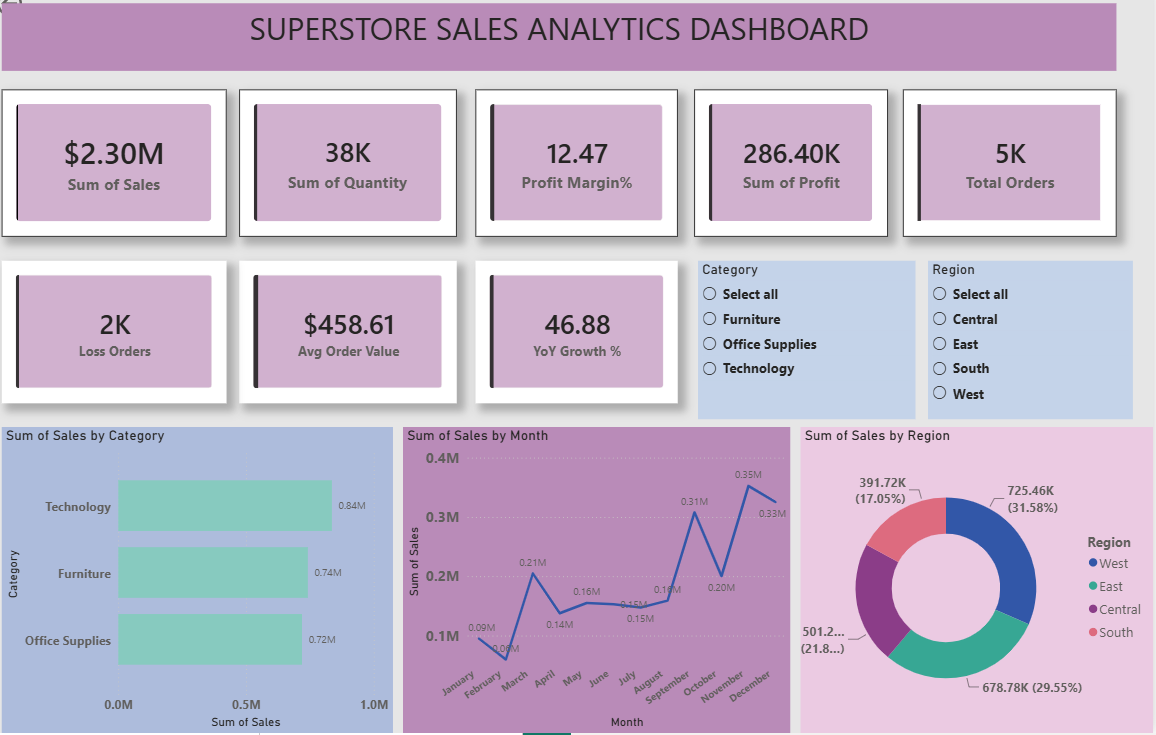

What the dashboard file says about the page in this screenshot:
{"tool":"powerbi","page":{"name":"Superstore Sales Analytics Dashboard","canvas":[1400,900],"ordinal":0},"visuals":[{"type":"cardVisual","fields":{"Data":["Sum(Sample - Superstore.Sales)"]},"box":[10.6,123.7,271.4,177.9],"z":0},{"type":"cardVisual","fields":{"Data":["Sum(Sample - Superstore.Profit)"]},"box":[846,123.7,233.7,177.9],"z":1000},{"type":"cardVisual","fields":{"Data":["Sum(Sample - Superstore.Quantity)"]},"box":[297.1,123.7,262.4,177.9],"z":2000},{"type":"cardVisual","fields":{"Data":["Sample - Superstore.Total Orders"]},"box":[1097.9,123.7,257.9,177.9],"z":3000},{"type":"clusteredBarChart","fields":{"Category":["Sample - Superstore.Category"],"Y":["Sum(Sample - Superstore.Sales)"]},"box":[10.6,530.8,472,369.5],"z":4000},{"type":"lineChart","fields":{"Category":["Sample - Superstore.Order Date.Variation.Date Hierarchy.Month"],"Y":["Sum(Sample - Superstore.Sales)"]},"box":[494.6,530.8,467.5,369.5],"z":5000},{"type":"donutChart","fields":{"Y":["Sum(Sample - Superstore.Sales)"],"Category":["Sample - Superstore.Region"]},"box":[974.2,530.8,425.3,369.5],"z":6000},{"type":"listSlicer","fields":{"Values":["Sample - Superstore.Category"]},"box":[850.5,330.3,262.4,191.5],"z":7000},{"type":"listSlicer","fields":{"Values":["Sample - Superstore.Region"]},"box":[1128,330.3,247.3,191.5],"z":8000},{"type":"cardVisual","fields":{"Data":["Sample - Superstore.Progit Margin%"]},"box":[582.1,123.7,244.3,177.9],"z":9000},{"type":"cardVisual","fields":{"Data":["Sample - Superstore.Avg Order Value"]},"box":[297.1,330.3,262.4,171.9],"z":10000},{"type":"actionButton","box":[0,0,100,40],"z":11000},{"type":"cardVisual","fields":{"Data":["Sample - Superstore.Loss Orders"]},"box":[10.6,330.3,271.4,171.9],"z":12000},{"type":"cardVisual","fields":{"Data":["Sample - Superstore.YoY Growth %"]},"box":[582.1,330.3,244.3,171.9],"z":13000},{"type":"textbox","box":[10.6,19.6,1345.2,81.4],"z":14000}]}

Visuals, with their boxes in screenshot pixels (x1, y1, x2, y2), scaled from the page's 1400x900 canvas onto the 1156x735 screenshot:
cardVisual - Sum(Sample - Superstore.Sales): bbox=[9, 101, 233, 246]
cardVisual - Sum(Sample - Superstore.Profit): bbox=[699, 101, 892, 246]
cardVisual - Sum(Sample - Superstore.Quantity): bbox=[245, 101, 462, 246]
cardVisual - Sample - Superstore.Total Orders: bbox=[907, 101, 1120, 246]
clusteredBarChart - Sample - Superstore.Category x Sum(Sample - Superstore.Sales): bbox=[9, 433, 398, 734]
lineChart - Sample - Superstore.Order Date.Variation.Date Hierarchy.Month x Sum(Sample - Superstore.Sales): bbox=[408, 433, 794, 734]
donutChart - Sum(Sample - Superstore.Sales) x Sample - Superstore.Region: bbox=[804, 433, 1155, 734]
listSlicer - Sample - Superstore.Category: bbox=[702, 270, 919, 426]
listSlicer - Sample - Superstore.Region: bbox=[931, 270, 1136, 426]
cardVisual - Sample - Superstore.Progit Margin%: bbox=[481, 101, 682, 246]
cardVisual - Sample - Superstore.Avg Order Value: bbox=[245, 270, 462, 410]
actionButton: bbox=[0, 0, 83, 33]
cardVisual - Sample - Superstore.Loss Orders: bbox=[9, 270, 233, 410]
cardVisual - Sample - Superstore.YoY Growth %: bbox=[481, 270, 682, 410]
textbox: bbox=[9, 16, 1120, 82]
